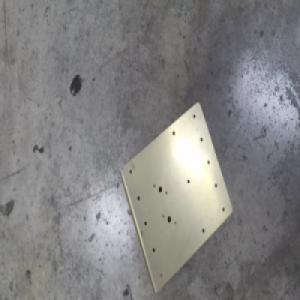MetalSheet: (118, 100, 233, 294)
